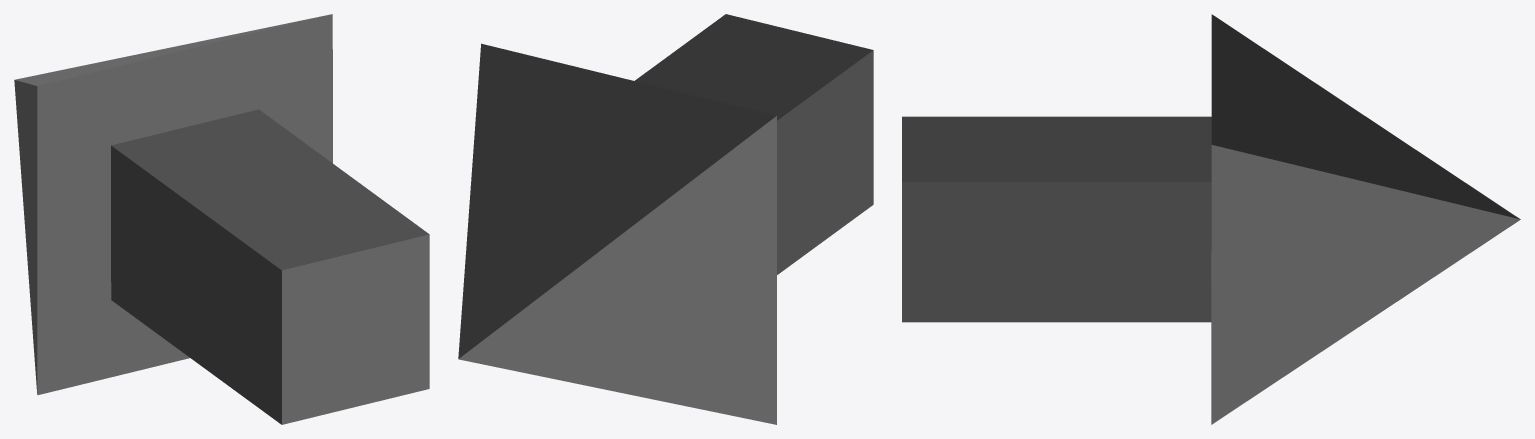
File: arrow.glb
3 views of the same model, side by side, from view 1: azimuth 30°, elevation 25°; view 2: azimuth 150°, elevation 25°; view 3: azimuth 270°, elevation 25° (orthographic). The views are drawn at different scales.
Parts seen in each view (by area): view 1: group_13; view 2: group_13; view 3: group_13.
Part boxes in pixels (x1,y1,x2,y2): group_13: (14,14,429,424); group_13: (458,14,873,424); group_13: (902,14,1520,424).
Size of the model in its own units: 2048 by 2047 by 4097.
1 material, 1 textured.
